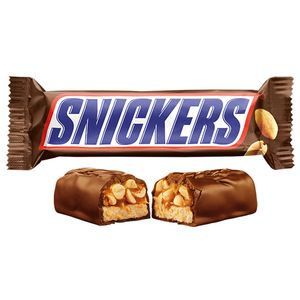snickers: (44, 97, 249, 144)
